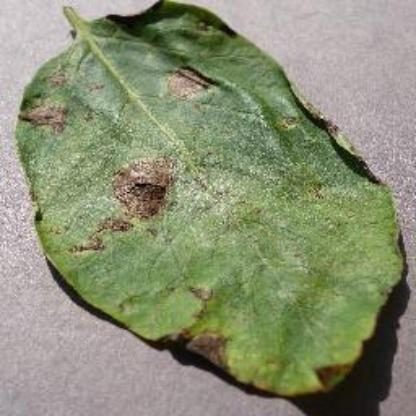Early-Blight: (17, 1, 409, 399)
